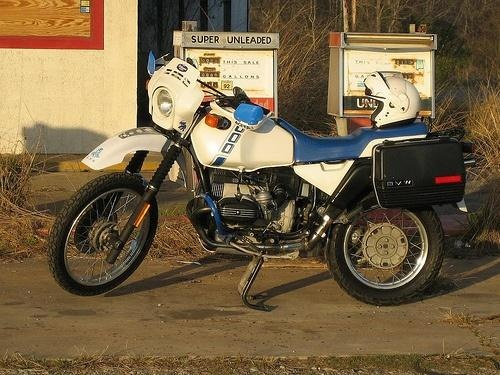motorbike: (45, 50, 472, 315)
